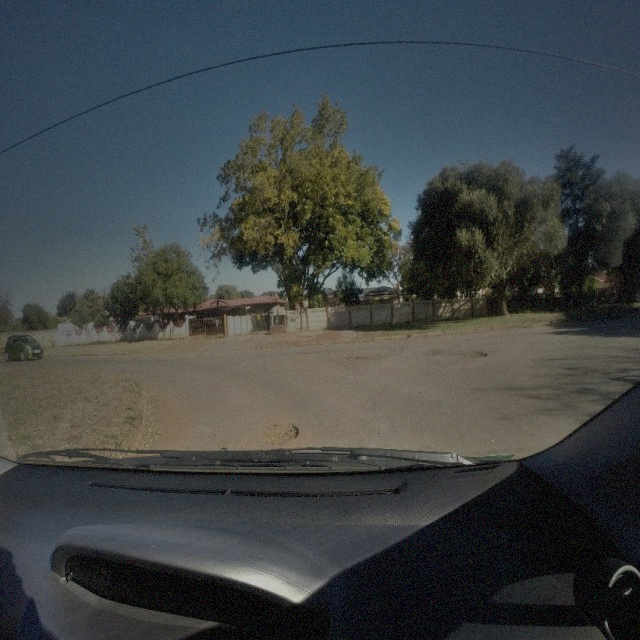pothole: (262, 418, 299, 446), (461, 347, 485, 360), (346, 351, 372, 362)
